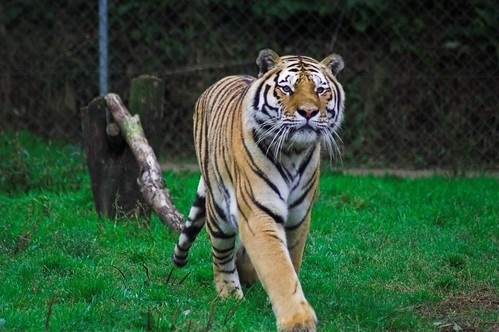tigre: (170, 47, 346, 330)
